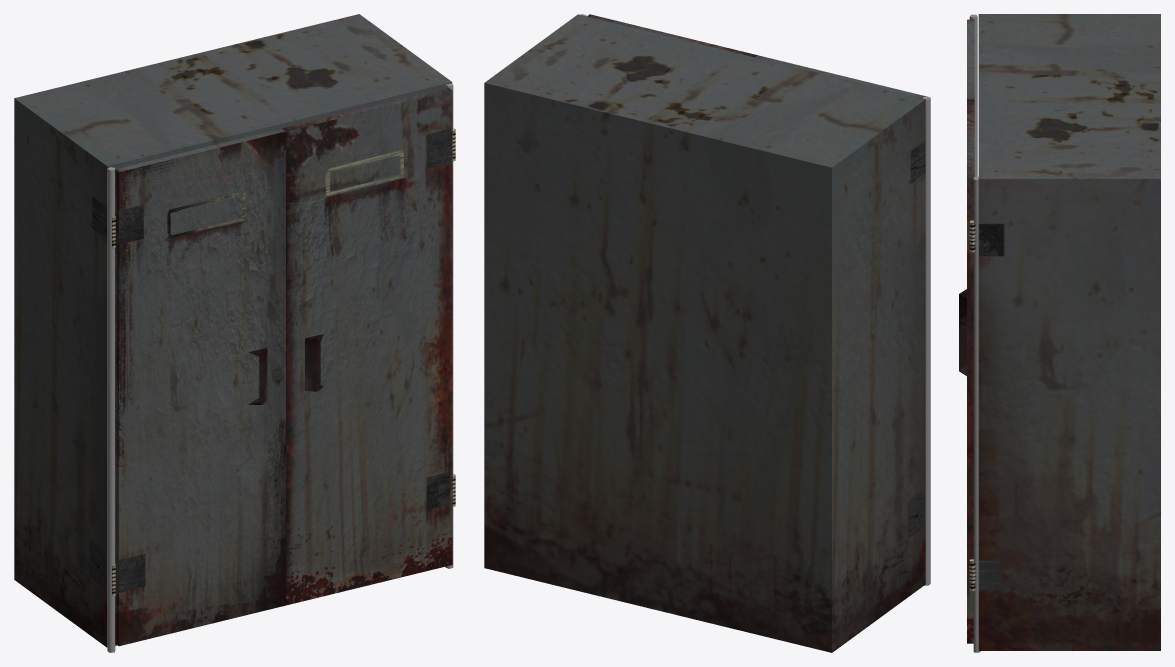
File: furniture_metal_cabinet.DAE
3 views of the same model, side by side, from view 1: azimuth 30°, elevation 25°; view 2: azimuth 150°, elevation 25°; view 3: azimuth 270°, elevation 25° (orthographic). The views are drawn at different scales.
Parts seen in each view (by area): view 1: door02, door01, cabinet, _joint_hinge_door02_cabinet_95_2_hinge02, _joint_hinge_door01_cabinet_2_95_hinge01; view 2: cabinet, _joint_hinge_door02_cabinet_95_2_hinge02; view 3: cabinet, door01, _joint_hinge_door01_cabinet_2_95_hinge01, door02, _joint_hinge_door02_cabinet_95_2_hinge02.
Part boxes in pixels (<box>): door02: <box>112,128,285,646</box>; door01: <box>282,88,455,605</box>; cabinet: <box>14,14,452,647</box>; _joint_hinge_door02_cabinet_95_2_hinge02: <box>107,167,115,652</box>; _joint_hinge_door01_cabinet_2_95_hinge01: <box>445,83,453,568</box>; cabinet: <box>484,14,925,652</box>; _joint_hinge_door02_cabinet_95_2_hinge02: <box>922,96,930,585</box>; cabinet: <box>978,14,1160,650</box>; door01: <box>959,99,975,643</box>; _joint_hinge_door01_cabinet_2_95_hinge01: <box>973,176,980,652</box>; door02: <box>959,19,974,319</box>; _joint_hinge_door02_cabinet_95_2_hinge02: <box>969,14,977,177</box>.
Size of what is drawn, in the model's own units: 1.47 by 0.7566 by 1.96.
